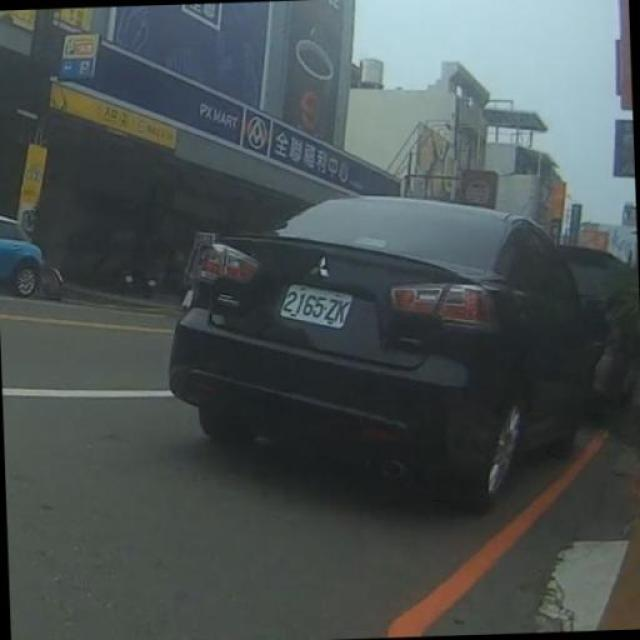Legalparking: (137, 120, 640, 563)
